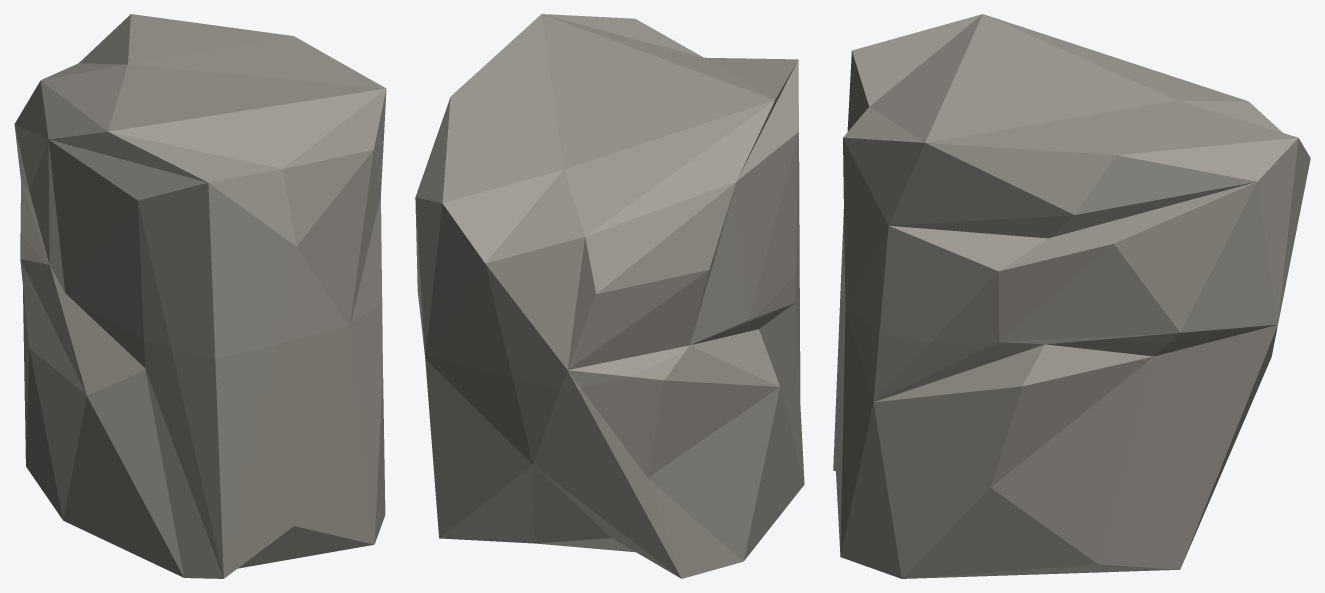
The model's file is YN_Pillar1.fbx.
The picture shows the model from 3 angles, left to right: view 1: azimuth 30°, elevation 25°; view 2: azimuth 150°, elevation 25°; view 3: azimuth 270°, elevation 25°; orthographic projection. The views are drawn at different scales.
Visible parts, largest first — view 1: Pillar1; view 2: Pillar1; view 3: Pillar1.
Boxes of the visible parts, box(x1,y1,x2,y2) form: Pillar1: box(14, 14, 386, 578); Pillar1: box(415, 14, 804, 578); Pillar1: box(833, 14, 1310, 578).
Size of the model in its own units: 1.24 by 1.76 by 1.72.
